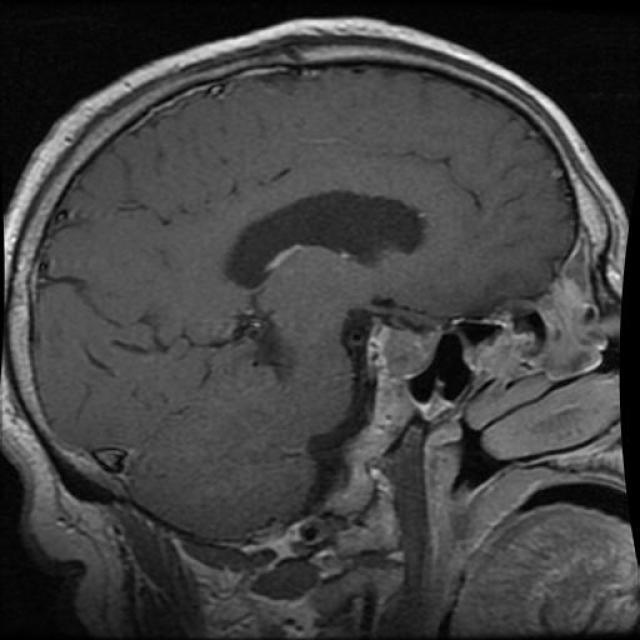pituitary: (357, 306, 455, 422)
